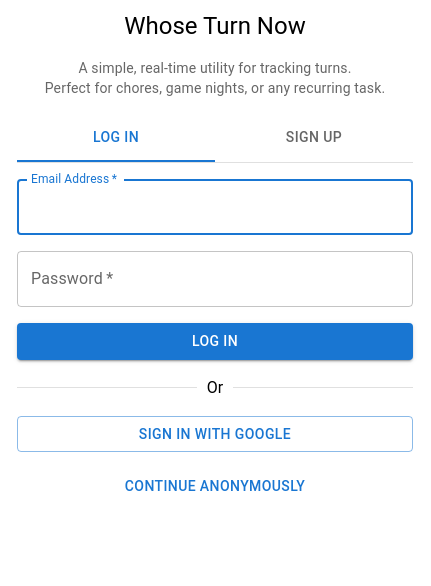
Test case: LoginScreen › should display an error message from the auth service
Type "fail@example.com" into the field labelled "Email Address *" at [215, 207], box [17,179,413,235]
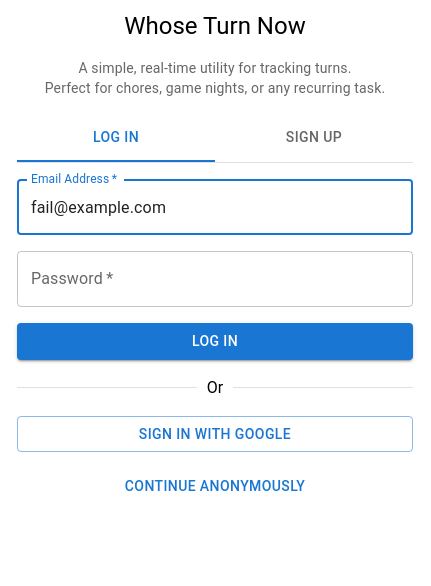
Type "anypassword" into the password field labelled "Password *" at [215, 279], box [17,251,413,307]
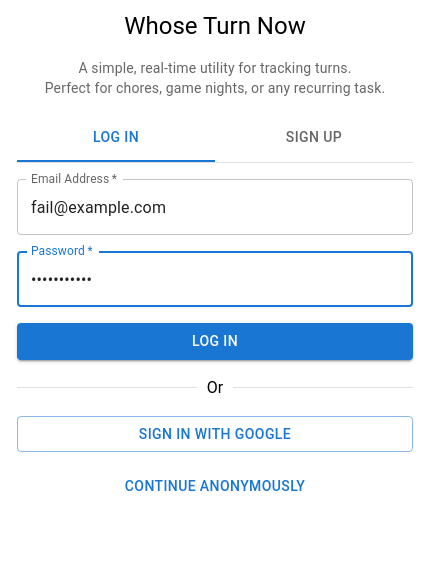
Click the button "Log In" at [215, 341], box [17,323,413,360]
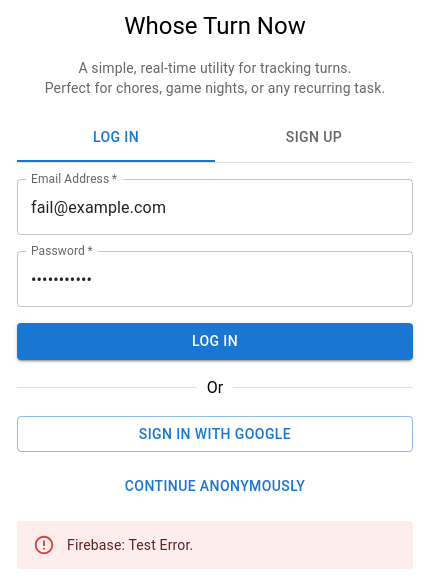
Expected: the message "Firebase: Test Error." is shown, [17,520,413,568]
Expected: the message reads "Firebase: Test Error.", [67,536,193,552]
